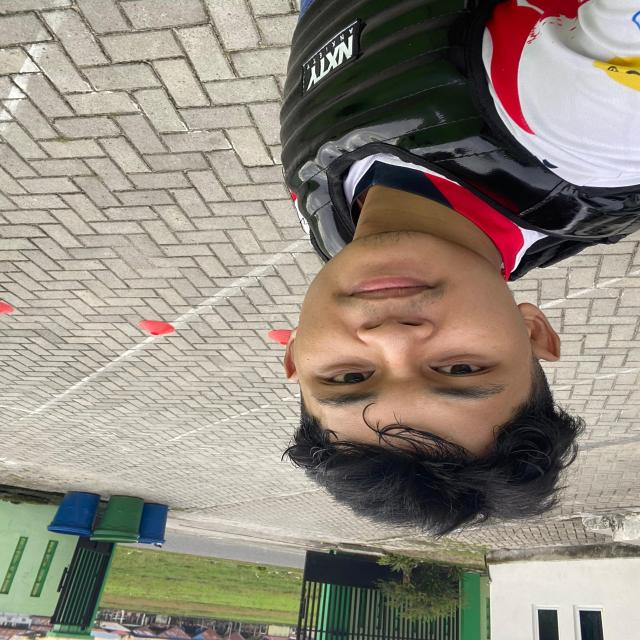nohelmet: (276, 223, 575, 544)
